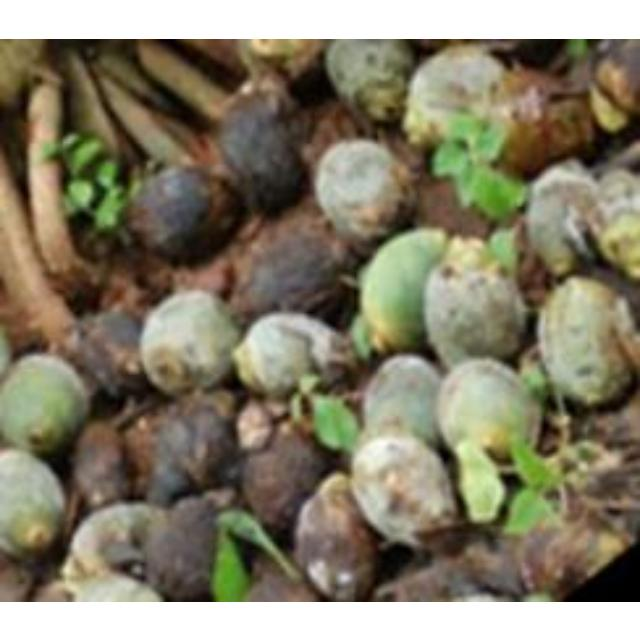damaged: (536, 277, 638, 409), (348, 432, 458, 550), (355, 228, 451, 356), (487, 64, 595, 174), (424, 255, 528, 368), (218, 85, 308, 215), (512, 498, 628, 598), (435, 358, 541, 464), (235, 226, 352, 322), (138, 289, 242, 395), (313, 136, 415, 244), (293, 476, 381, 600), (402, 44, 506, 146), (130, 164, 238, 262), (240, 422, 330, 532), (147, 399, 240, 505), (232, 310, 344, 398), (0, 354, 92, 458), (524, 162, 604, 278), (144, 493, 228, 601), (65, 501, 165, 589), (358, 354, 446, 451), (68, 307, 154, 401), (322, 38, 416, 124), (1, 449, 69, 559), (70, 418, 134, 512)
